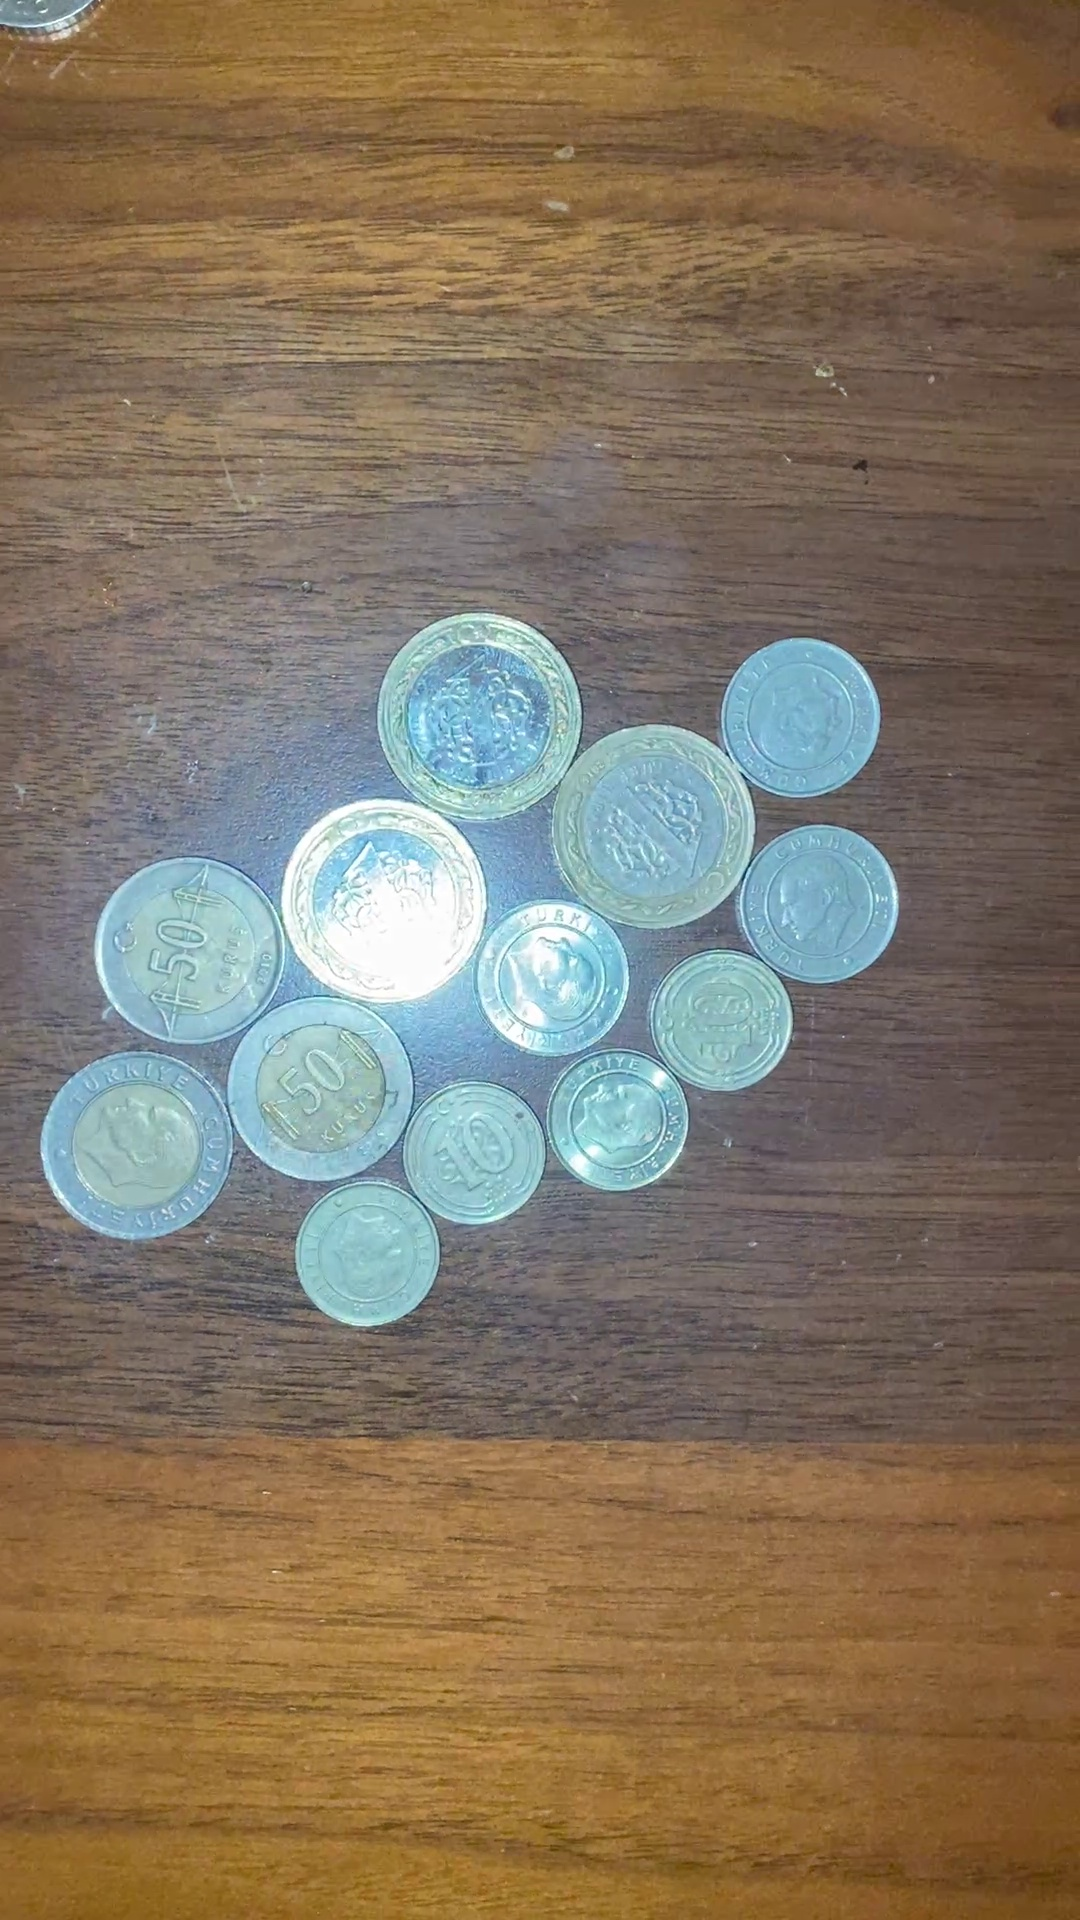1_tl: (371, 608, 585, 822), (277, 794, 481, 1004), (545, 724, 752, 928)
